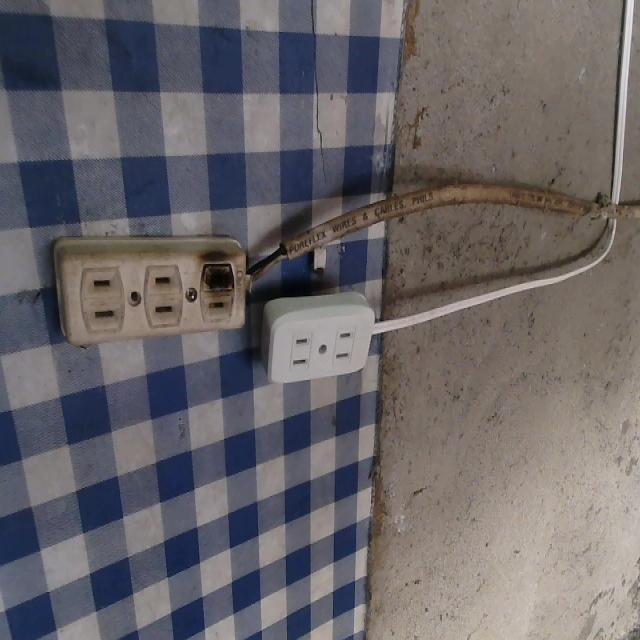-: (196, 241, 242, 295)
